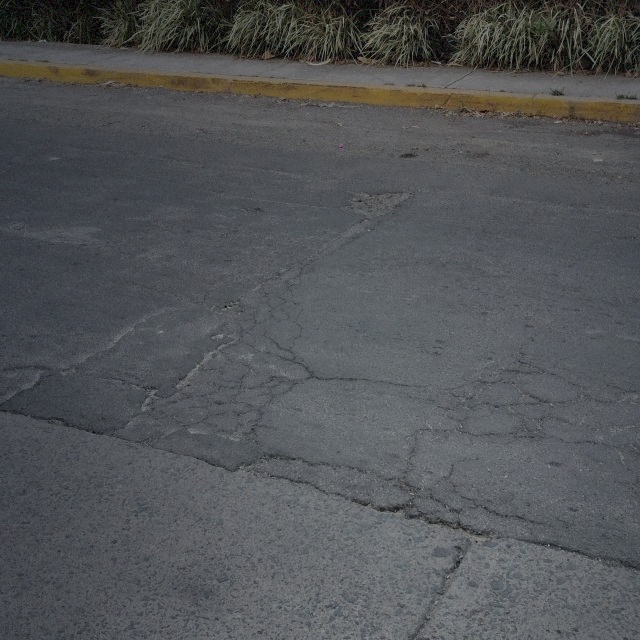pothole: (342, 187, 413, 226), (237, 456, 281, 477), (138, 383, 160, 413), (41, 414, 69, 427)
